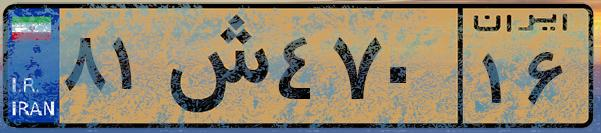0: (385, 28, 445, 110)
1: (475, 38, 525, 113), (110, 28, 158, 98)
4: (270, 28, 330, 110)
6: (525, 38, 570, 115)
7: (330, 28, 385, 110)
8: (57, 26, 110, 100)
ش: (158, 12, 270, 120)
